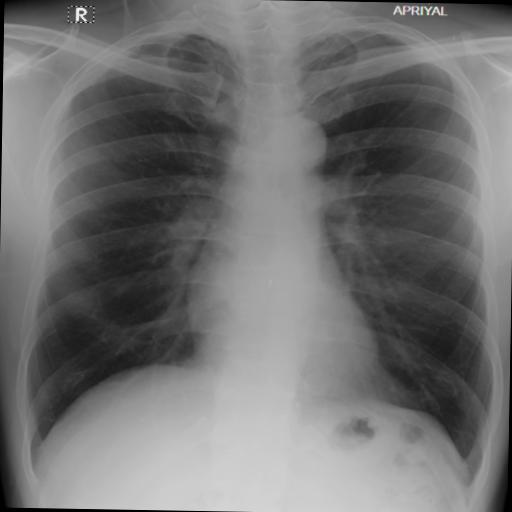normal: (17, 15, 504, 467)
